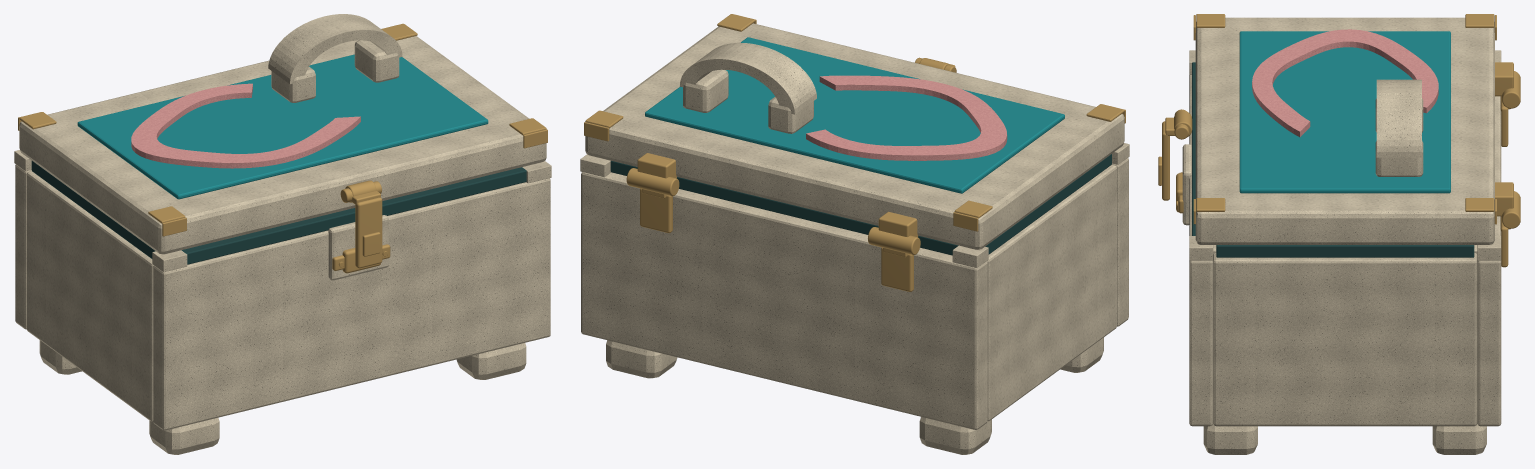
File: antigua-and-barbuda.glb
3 renders of one model, left to right at view 1: azimuth 30°, elevation 25°; view 2: azimuth 150°, elevation 25°; view 3: azimuth 270°, elevation 25°, orthographic. The views are drawn at different scales.
Visible parts, largest first — view 1: Limestone / long wall, Lid / polished slab, Coast / lagoon, Limestone / side wall, Coast / pink barrier shore, Mineral seam / long, Bridge / open limestone arch, Limestone / long wall.001, Limestone foot, Limestone foot.002, Latch / lifting hasp, Limestone / clasp seat (+5 smaller); view 2: Limestone / long wall.001, Lid / polished slab, Limestone / side wall, Coast / lagoon, Coast / pink barrier shore, Bridge / open limestone arch, Mineral seam / long.001, Limestone / long wall, Limestone foot.001, Limestone foot.003, Bridge / limestone abutment.001, Mineral seam / side (+10 smaller); view 3: Limestone / side wall.001, Lid / polished slab, Coast / lagoon, Coast / pink barrier shore, Limestone / long wall.001, Limestone / long wall, Bridge / open limestone arch, Mineral seam / side.001, Limestone foot.002, Limestone foot.003, Bridge / limestone abutment.001, Limestone / clasp seat (+12 smaller).
Boxes of the visible parts, box(x1,y1,x2,y2) form: Limestone / long wall: box(153, 178, 550, 430); Lid / polished slab: box(19, 36, 546, 254); Coast / lagoon: box(77, 54, 488, 199); Limestone / side wall: box(26, 171, 153, 421); Coast / pink barrier shore: box(131, 83, 360, 168); Mineral seam / long: box(181, 167, 526, 264); Bridge / open limestone arch: box(268, 14, 402, 83); Limestone / long wall.001: box(15, 164, 31, 329); Limestone foot: box(149, 418, 219, 454); Limestone foot.002: box(456, 343, 526, 379); Latch / lifting hasp: box(355, 197, 382, 268); Limestone / clasp seat: box(328, 215, 388, 280); Limestone / long wall.001: box(581, 172, 987, 429); Lid / polished slab: box(585, 23, 1124, 249); Limestone / side wall: box(987, 165, 1116, 421); Coast / lagoon: box(645, 37, 1064, 193); Coast / pink barrier shore: box(806, 75, 1007, 160); Bridge / open limestone arch: box(679, 42, 816, 114); Mineral seam / long.001: box(610, 161, 958, 255); Limestone / long wall: box(1112, 158, 1128, 326); Limestone foot.001: box(919, 417, 991, 454); Limestone foot.003: box(606, 340, 677, 378); Bridge / limestone abutment.001: box(683, 69, 728, 112); Mineral seam / side: box(985, 154, 1111, 254); Limestone / side wall.001: box(1213, 253, 1477, 426); Lid / polished slab: box(1195, 17, 1494, 244); Coast / lagoon: box(1239, 31, 1450, 193); Coast / pink barrier shore: box(1252, 29, 1438, 137); Limestone / long wall.001: box(1477, 96, 1501, 426); Limestone / long wall: box(1189, 75, 1213, 426); Bridge / open limestone arch: box(1376, 79, 1421, 157); Mineral seam / side.001: box(1216, 245, 1474, 257); Limestone foot.002: box(1203, 424, 1257, 454); Limestone foot.003: box(1432, 424, 1486, 454); Bridge / limestone abutment.001: box(1375, 140, 1423, 176); Limestone / clasp seat: box(1182, 144, 1191, 225).
Bounding box in the file's own units: 3.72 × 2.8 × 2.88.
Materials: 5 (2 with a texture image).
